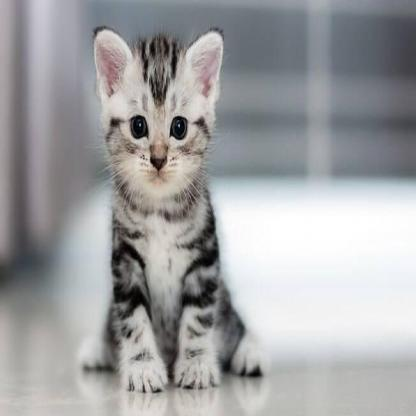gato: (65, 17, 277, 405)
